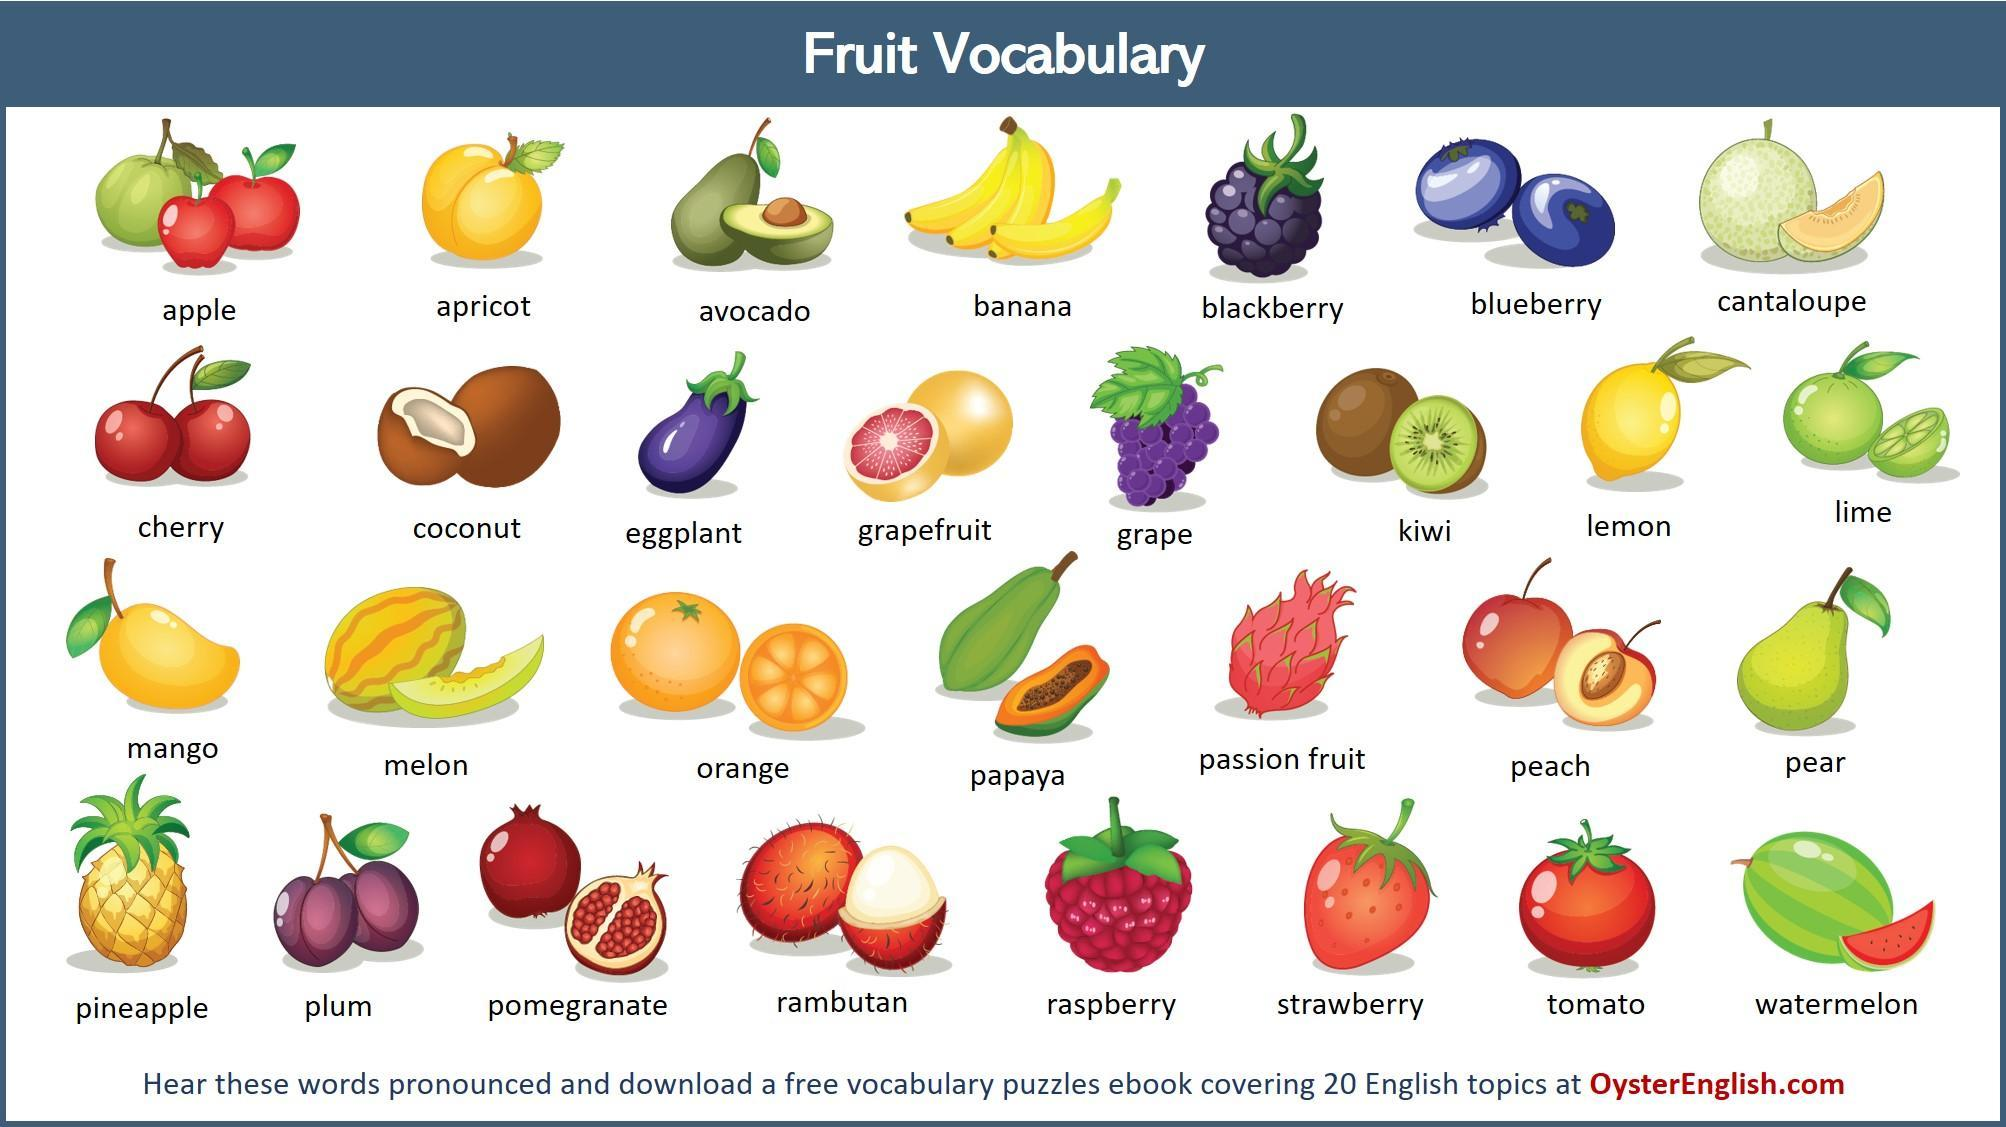apple: (96, 156, 194, 249), (158, 197, 238, 274)
